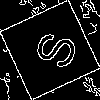S: (25, 25, 79, 72)
